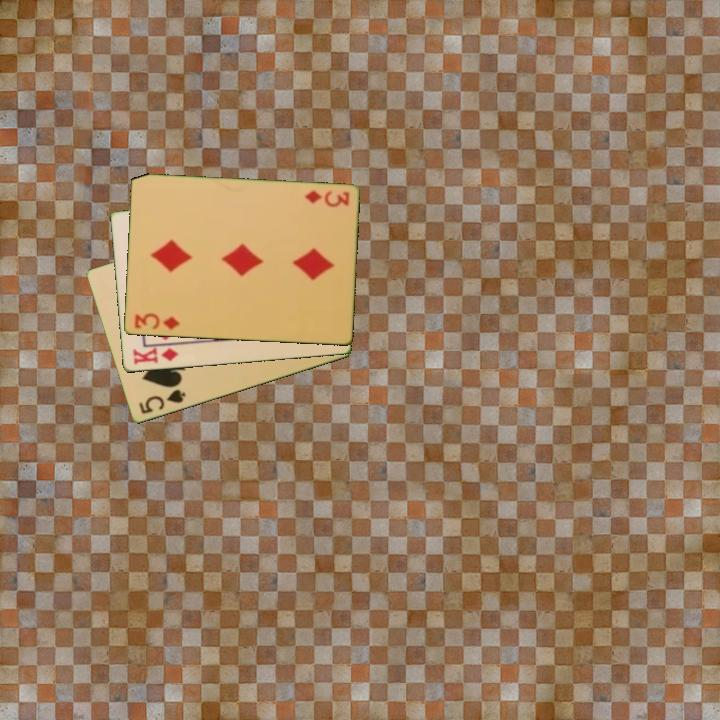3d: (131, 310, 182, 333), (301, 187, 352, 209)
5s: (135, 386, 189, 417)
Kd: (129, 344, 181, 368)
